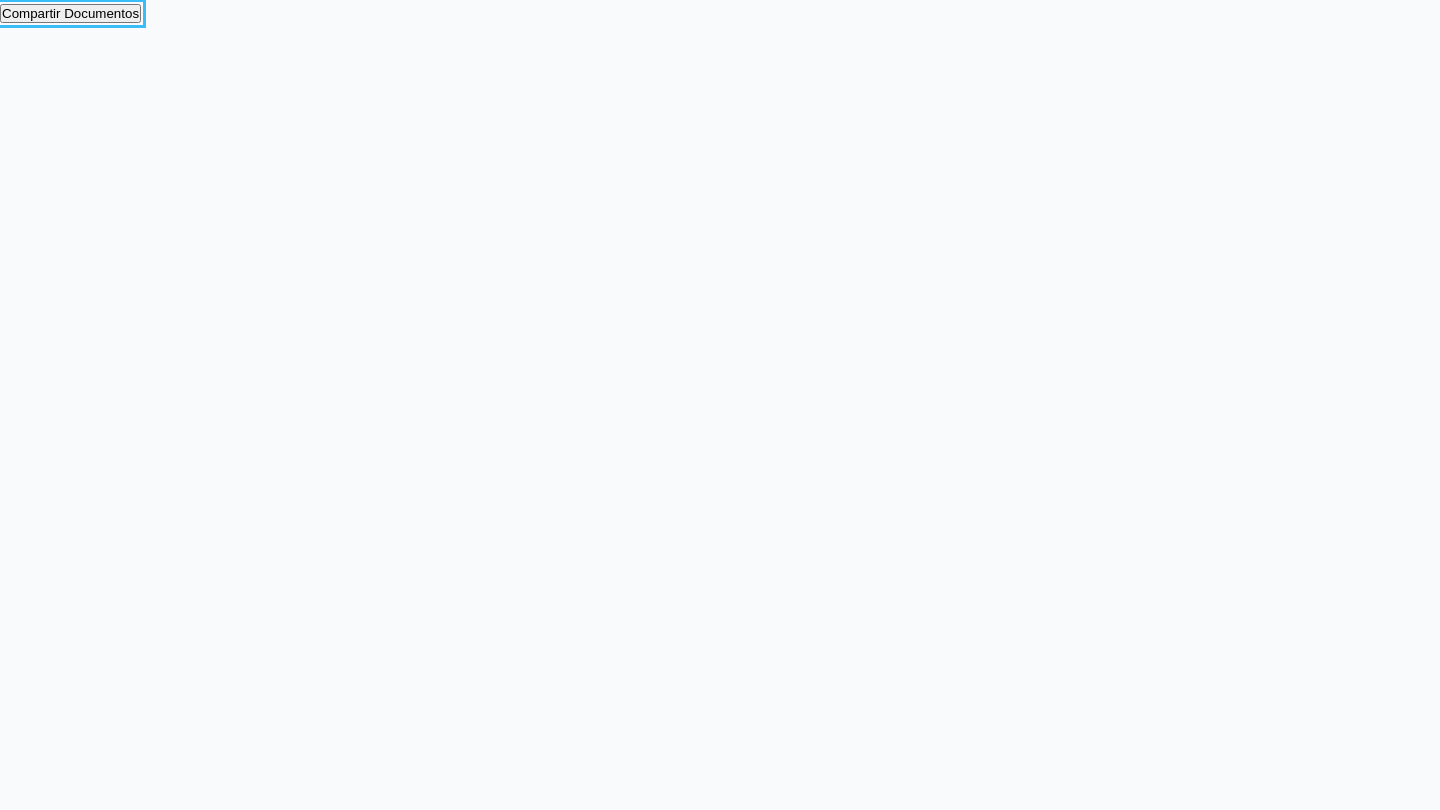
Test: permite modificar y muestra el acceso heredado que sobrevive a la revocación
The image size is (1440, 810).
Press Enter
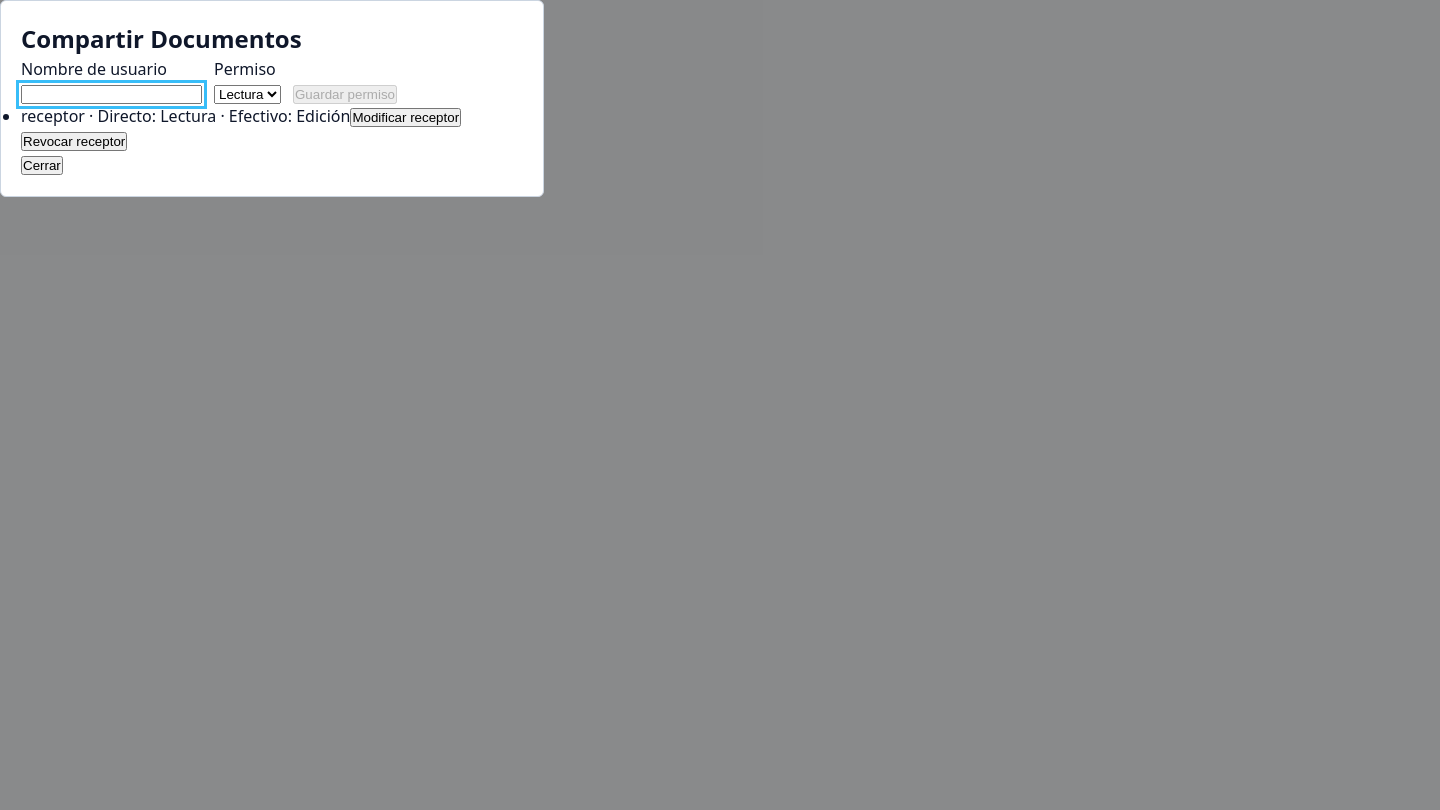
expect the dialog "Compartir Documentos" is shown: met, box [0,0,544,197]
expect the text "· Efectivo: Edición" is shown: met, box [216,105,350,127]
Click the button "Modificar receptor": (406, 118) [350,108,461,127]
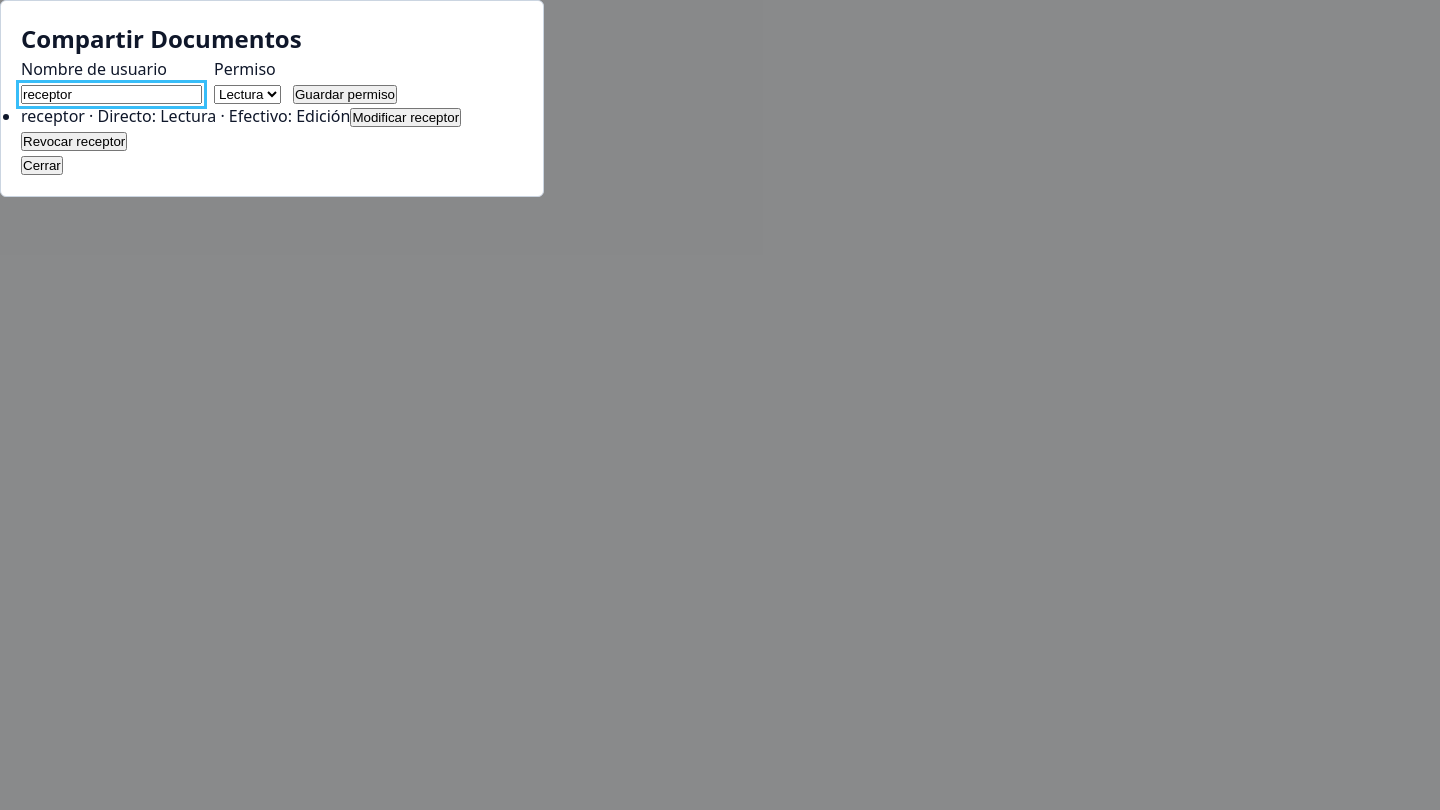
Select "Edición" in the dropdown labelled "Permiso": (248, 94) [214,85,281,104]
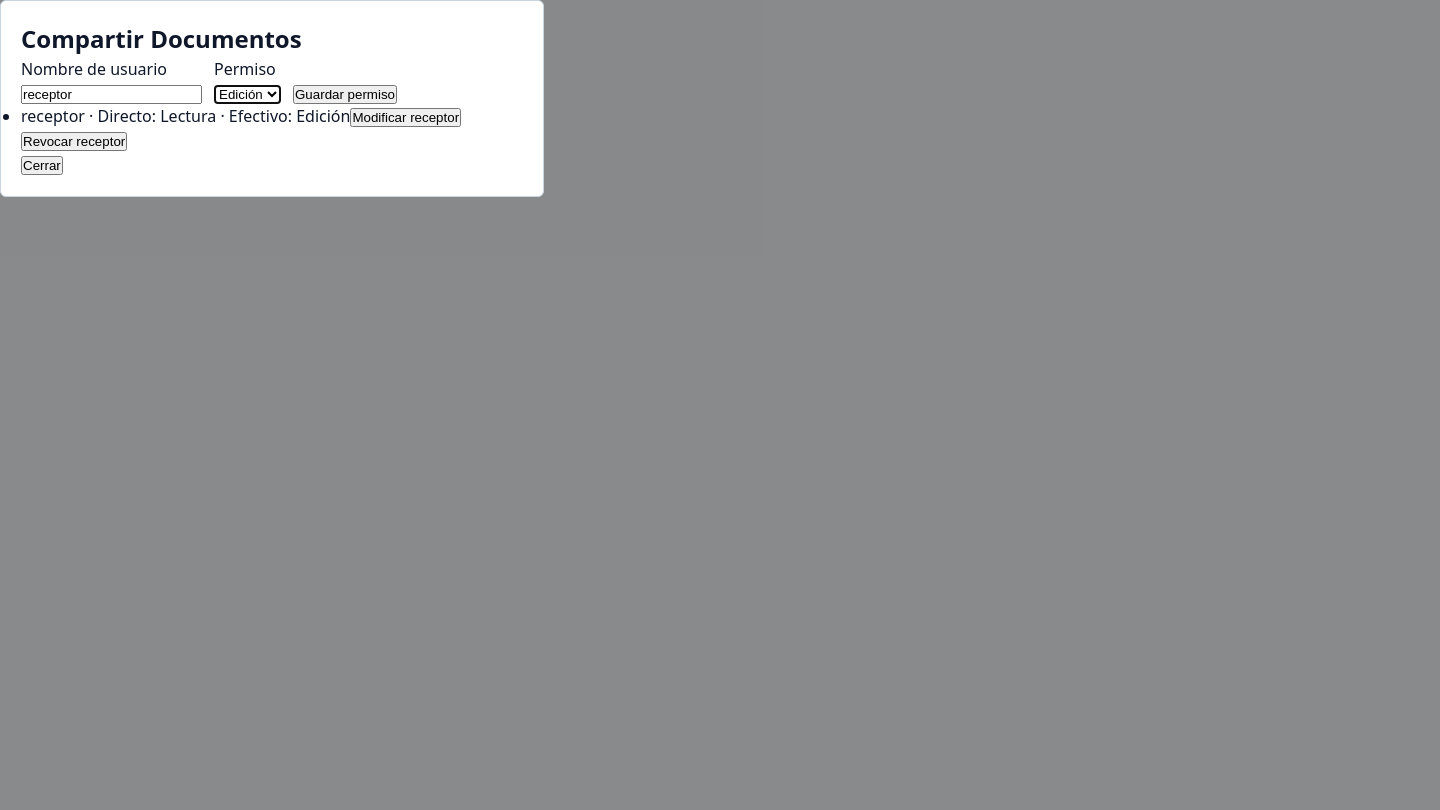
Click the button "Guardar permiso": (345, 94) [293,85,397,104]
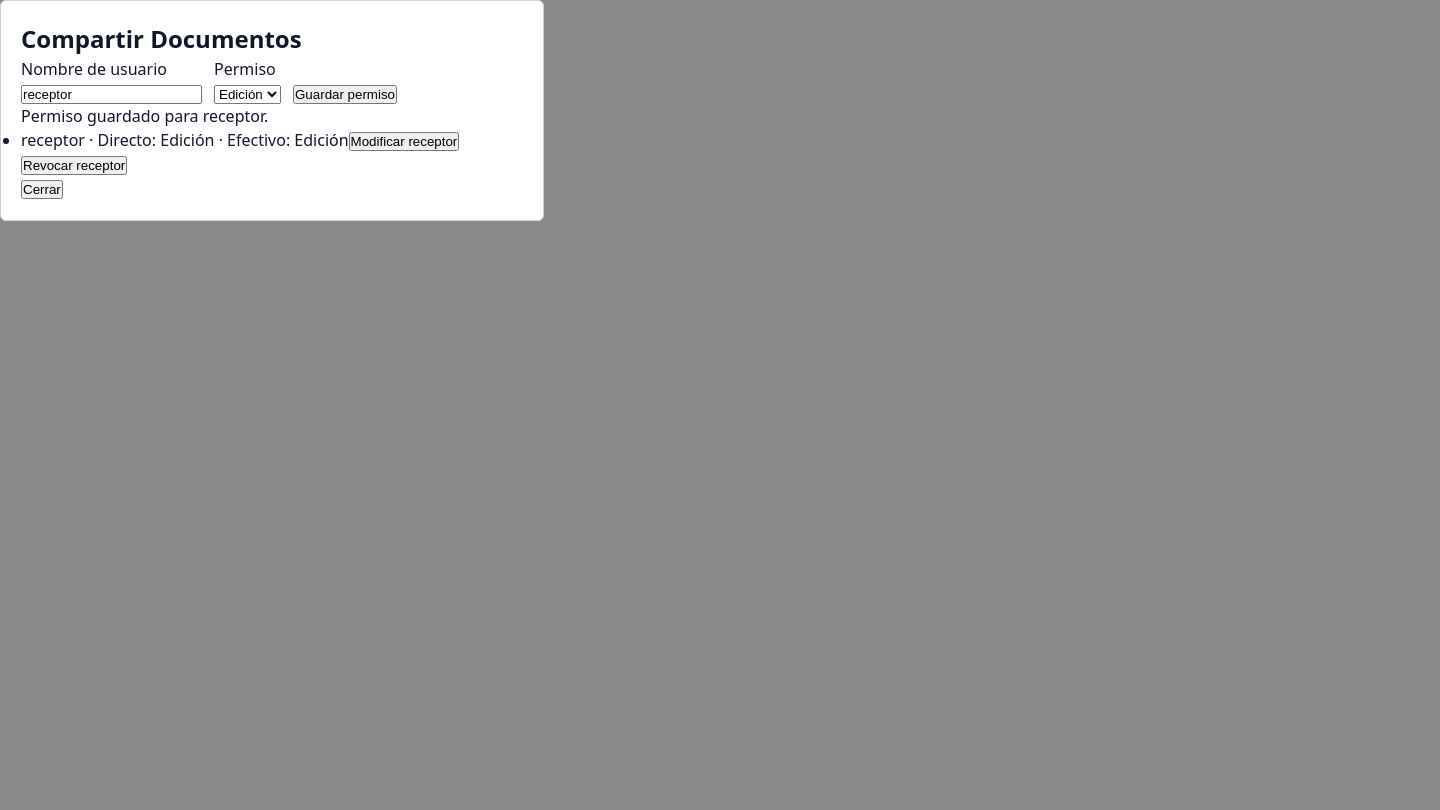
expect the text "receptor · Directo: Edición" is shown: met, box [21,129,214,151]
Click the button "Revocar receptor": (74, 166) [21,156,127,175]
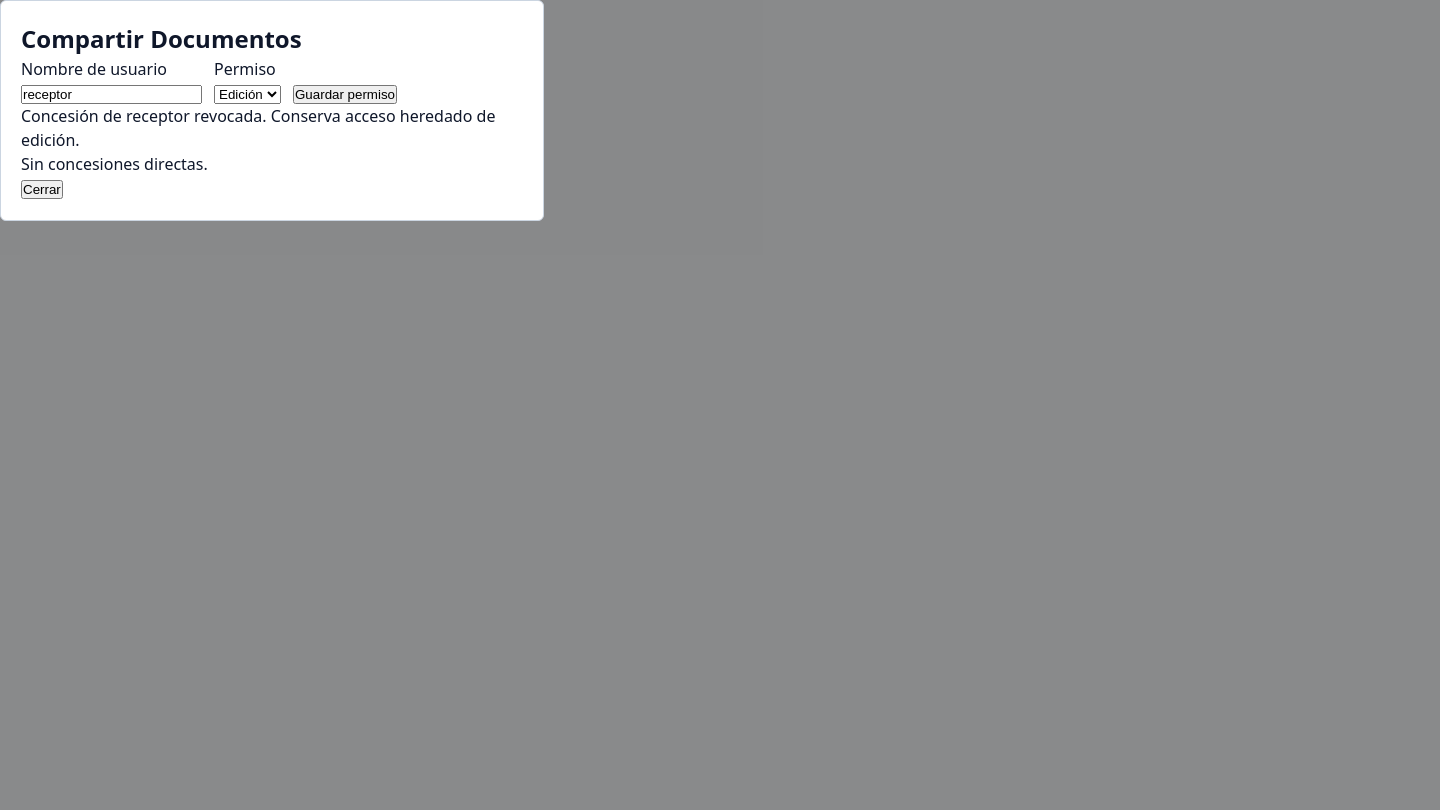
expect the text "Concesión de receptor revocada. Conserva acceso heredado de edición." is shown: met, box [21,104,523,152]
expect the text "Directo: Edición" is gone: met
